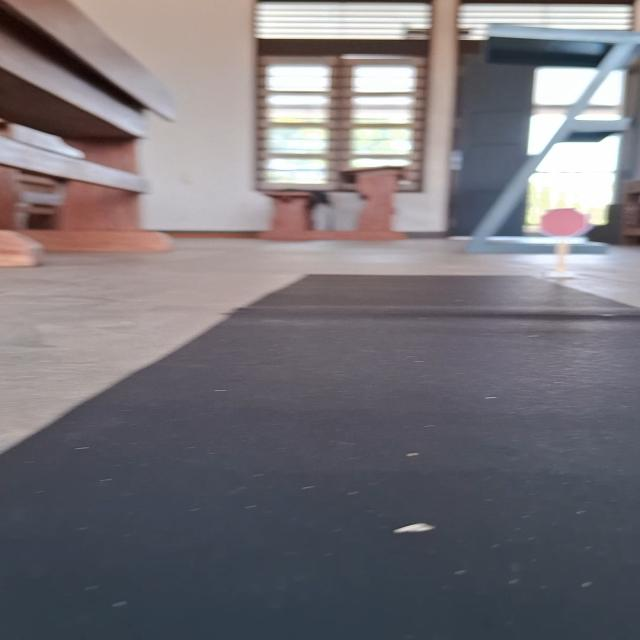Stop: (536, 207, 595, 240)
